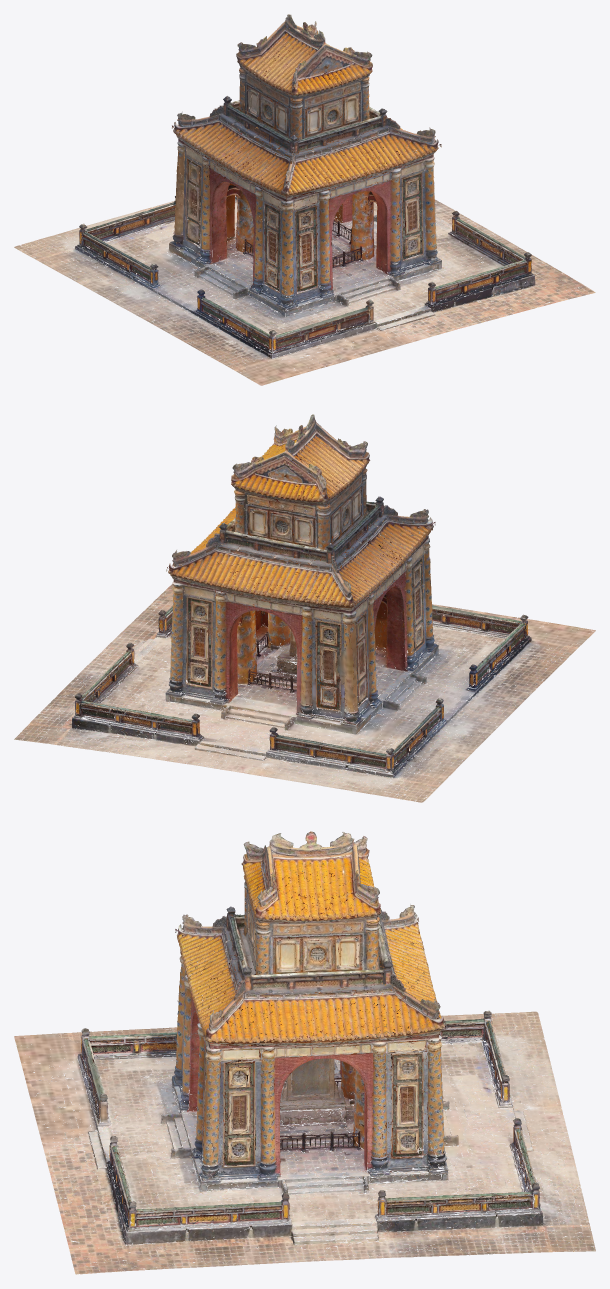
The model's file is tu-duc-m.glb.
3 renders of one model, top to bottom at view 1: azimuth 30°, elevation 25°; view 2: azimuth 150°, elevation 25°; view 3: azimuth 270°, elevation 25°, orthographic. The views are drawn at different scales.
Visible parts, largest first — view 1: Object_2; view 2: Object_2; view 3: Object_2.
Boxes of the visible parts, <box> form: Object_2: <box>14,14,595,385</box>; Object_2: <box>14,414,595,802</box>; Object_2: <box>14,831,595,1274</box>.
Size of the model in its own units: 1.36 by 0.815 by 1.34.
4 materials, 4 textured.
